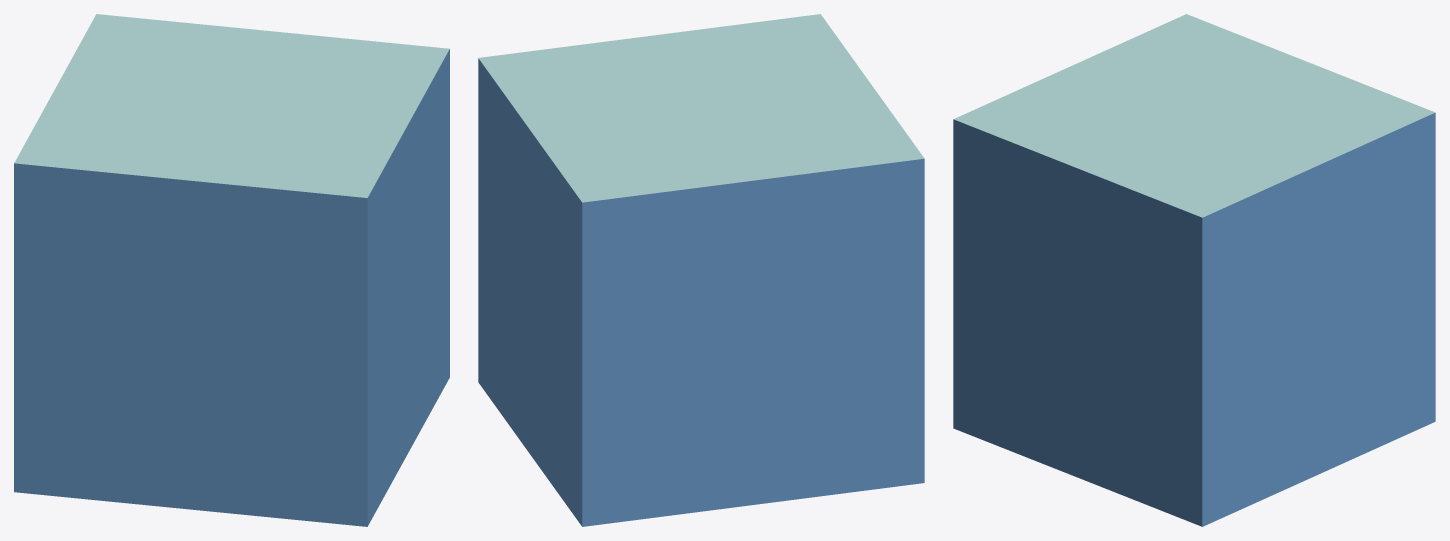
Rendered from Model_Datablock.fbx.
3 renders of one model, left to right at view 1: azimuth 30°, elevation 25°; view 2: azimuth 150°, elevation 25°; view 3: azimuth 270°, elevation 25°, orthographic. The views are drawn at different scales.
Parts seen in each view (by area): view 1: Datablock_outside; view 2: Datablock_outside; view 3: Datablock_outside.
Boxes of the visible parts, <box> form: Datablock_outside: <box>14,14,449,526</box>; Datablock_outside: <box>478,14,924,526</box>; Datablock_outside: <box>953,14,1435,526</box>.
Bounding box in the file's own units: 141 × 99.41 × 141.
